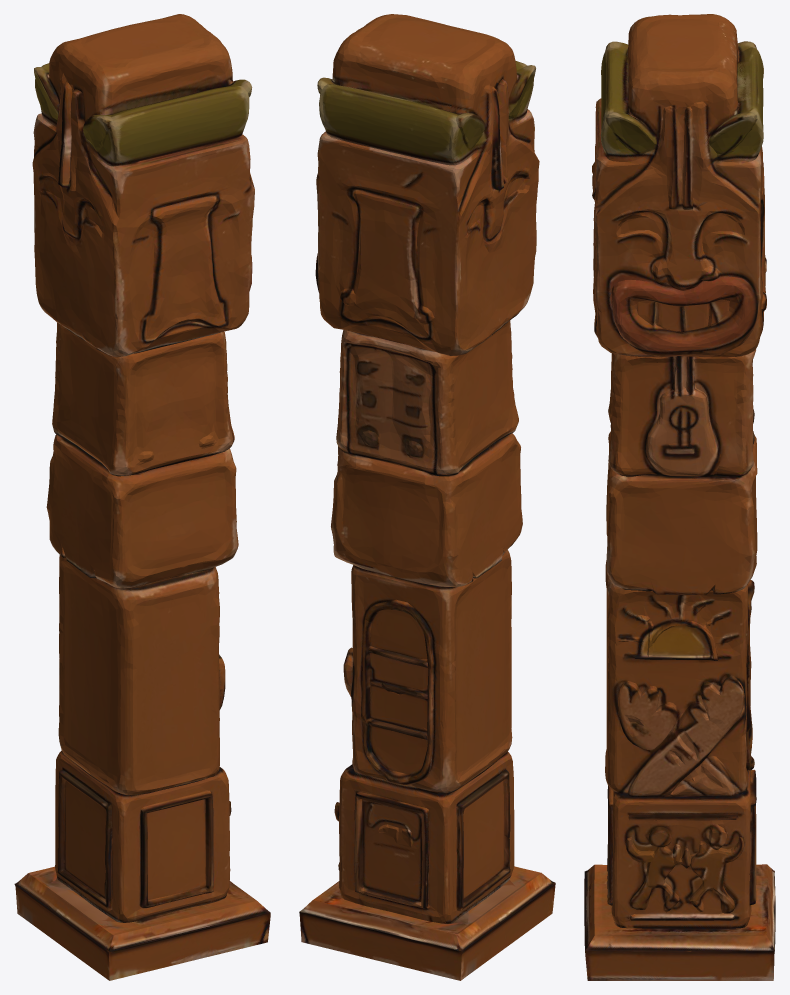
The model's file is totem_musica.glb.
3 views of the same model, side by side, from view 1: azimuth 30°, elevation 25°; view 2: azimuth 150°, elevation 25°; view 3: azimuth 270°, elevation 25° (orthographic).
Visible parts, largest first — view 1: tripo_node_4a760efd-5c46-4303-a742-ada8840668ae; view 2: tripo_node_4a760efd-5c46-4303-a742-ada8840668ae; view 3: tripo_node_4a760efd-5c46-4303-a742-ada8840668ae.
Part boxes in pixels (left/top/right/bottom): tripo_node_4a760efd-5c46-4303-a742-ada8840668ae: left=14, top=14, right=270, bottom=980; tripo_node_4a760efd-5c46-4303-a742-ada8840668ae: left=299, top=14, right=555, bottom=980; tripo_node_4a760efd-5c46-4303-a742-ada8840668ae: left=584, top=14, right=775, bottom=980.
Size of the model in its own units: 0.1928 by 0.9999 by 0.1927.
1 material, 1 textured.
